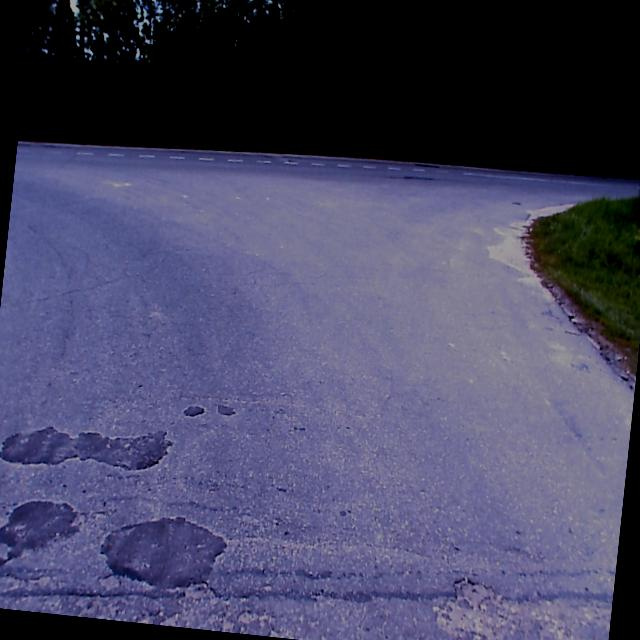road: (0, 140, 640, 640)
